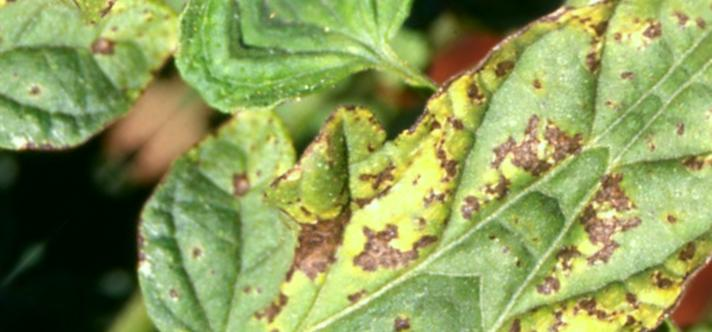Tomato leaf bacterial spot: (62, 0, 712, 332), (169, 0, 502, 227)
